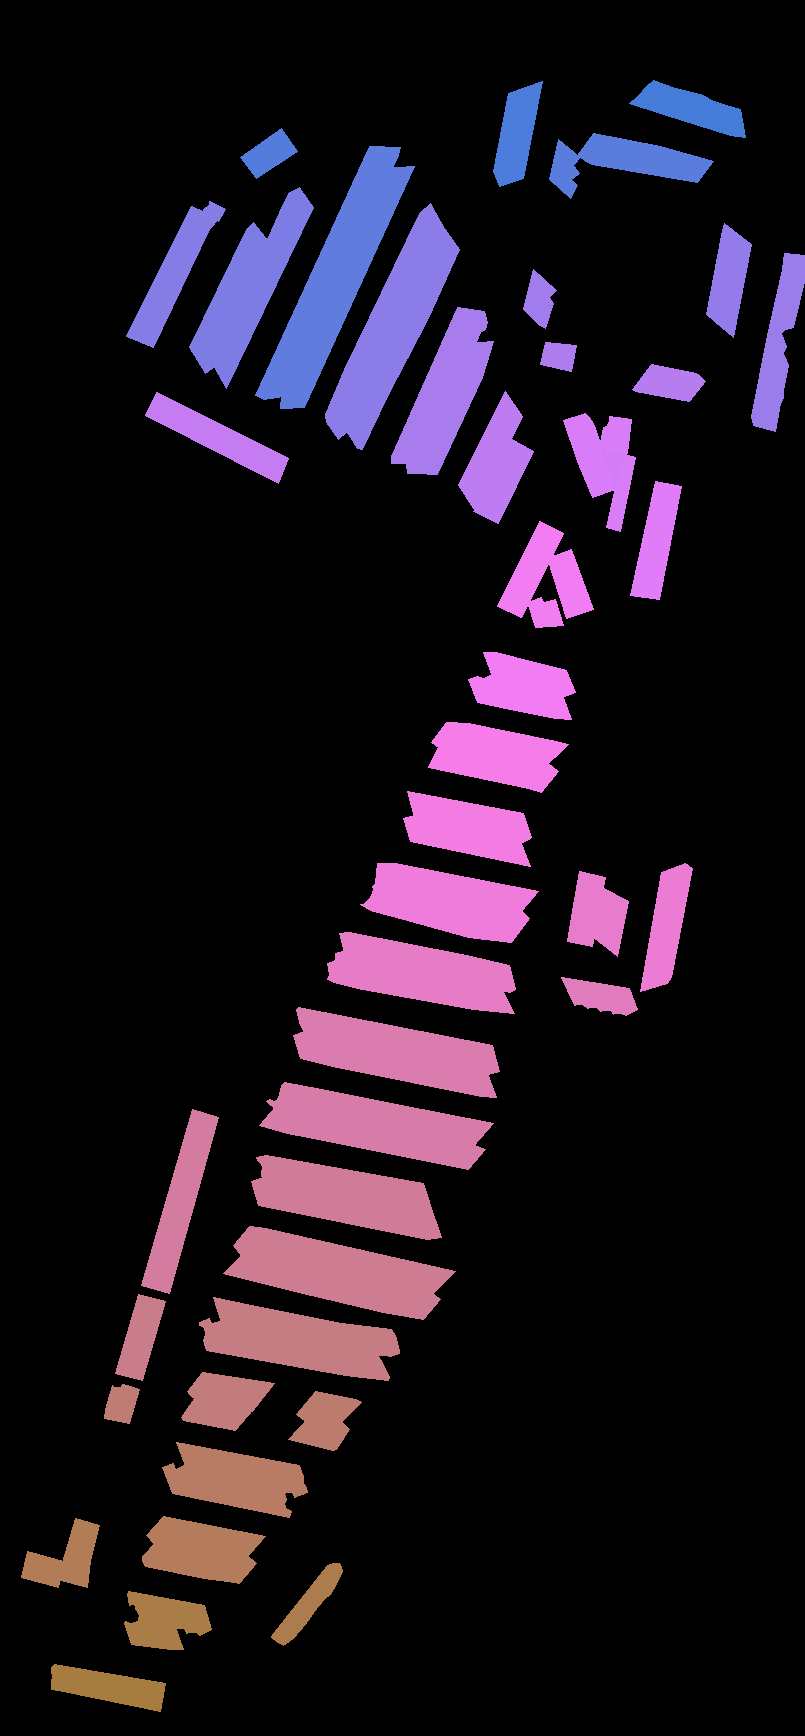parkingspot: (255, 146, 400, 399), (280, 166, 414, 409), (326, 203, 445, 440), (343, 229, 460, 449), (209, 187, 313, 387), (223, 1247, 440, 1319), (233, 1226, 455, 1295), (391, 307, 487, 463), (266, 1082, 493, 1147), (259, 1104, 485, 1169), (141, 1109, 218, 1293), (296, 1008, 499, 1074), (293, 1031, 496, 1097), (126, 206, 219, 347), (145, 392, 288, 483), (189, 223, 272, 373), (327, 950, 514, 1013), (251, 1177, 441, 1239), (199, 1317, 389, 1379), (406, 341, 493, 474), (213, 1296, 399, 1356), (339, 932, 515, 992), (360, 882, 529, 942), (751, 254, 804, 431), (256, 1155, 429, 1208), (375, 862, 538, 917), (458, 391, 522, 512), (176, 1441, 307, 1497), (162, 1463, 291, 1517), (629, 80, 745, 137), (640, 862, 692, 991), (577, 133, 713, 182), (431, 722, 568, 769), (403, 815, 530, 866), (407, 790, 531, 843), (429, 743, 558, 792), (497, 521, 563, 617), (630, 480, 681, 599), (271, 1563, 342, 1645), (146, 1516, 265, 1561), (51, 1664, 165, 1711), (142, 1537, 256, 1583), (493, 81, 541, 186), (706, 223, 751, 337), (473, 438, 533, 523), (468, 673, 571, 719), (563, 413, 615, 497), (115, 1294, 165, 1379), (483, 652, 575, 697), (127, 1591, 211, 1635), (187, 1372, 274, 1410), (547, 549, 594, 618), (561, 976, 637, 1015), (56, 1518, 99, 1587), (240, 128, 297, 178), (567, 871, 605, 945), (632, 364, 705, 401), (180, 1394, 252, 1430), (296, 1391, 361, 1427), (594, 887, 628, 955), (606, 455, 634, 531), (288, 1415, 349, 1450), (523, 269, 556, 328), (124, 1615, 183, 1649), (549, 139, 580, 198), (21, 1551, 63, 1587), (104, 1384, 140, 1423), (600, 416, 631, 455), (527, 597, 563, 627), (540, 342, 576, 371), (203, 201, 225, 221)
